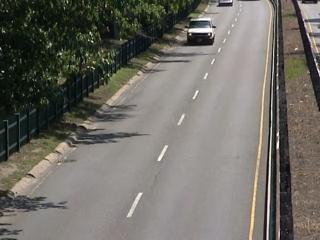truck: (184, 16, 217, 47)
